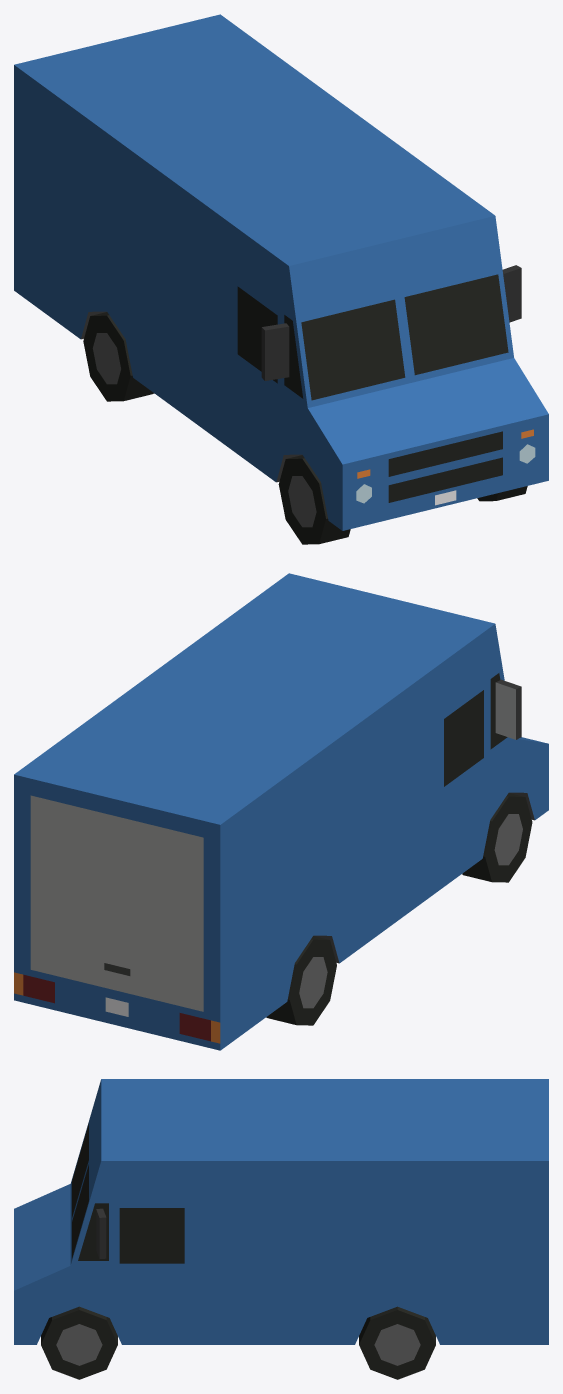
File: Veh_StepVan_01_Blue.glb
3 renders of one model, top to bottom at view 1: azimuth 30°, elevation 25°; view 2: azimuth 150°, elevation 25°; view 3: azimuth 270°, elevation 25°, orthographic. The views are drawn at different scales.
Visible parts, largest first — view 1: StepVan_Blue, Wheel_FR, Wheel_RR; view 2: StepVan_Blue, Wheel_FR, Wheel_RR; view 3: StepVan_Blue, Wheel_FL, Wheel_RL.
Boxes of the visible parts, x1,y1,x2,y2 form: StepVan_Blue: (14,14,548,530); Wheel_FR: (278,455,350,544); Wheel_RR: (83,312,154,401); StepVan_Blue: (14,573,548,1050); Wheel_FR: (462,793,532,882); Wheel_RR: (266,936,336,1025); StepVan_Blue: (14,1079,548,1344); Wheel_FL: (41,1306,117,1379); Wheel_RL: (359,1306,435,1379).
Bounding box in the file's own units: 1.57 × 1.57 × 3.48.
1 material, 1 textured.
